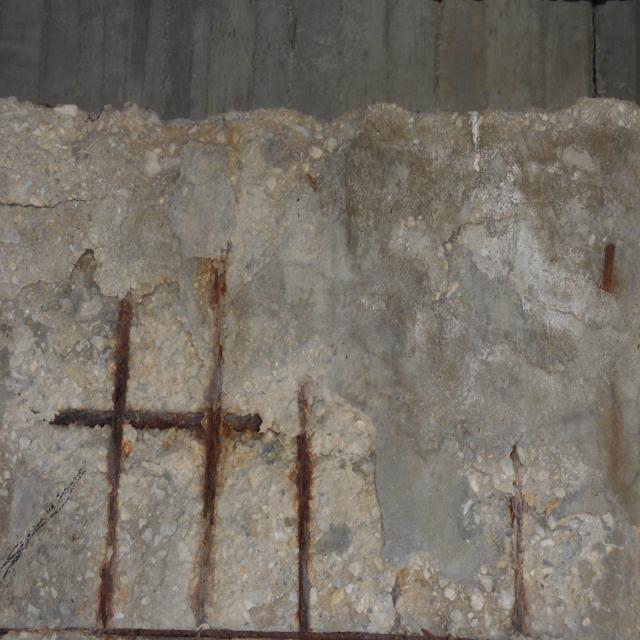corrosion: (66, 244, 320, 640), (585, 230, 640, 543), (488, 426, 547, 636), (0, 627, 640, 640), (303, 170, 320, 198)
